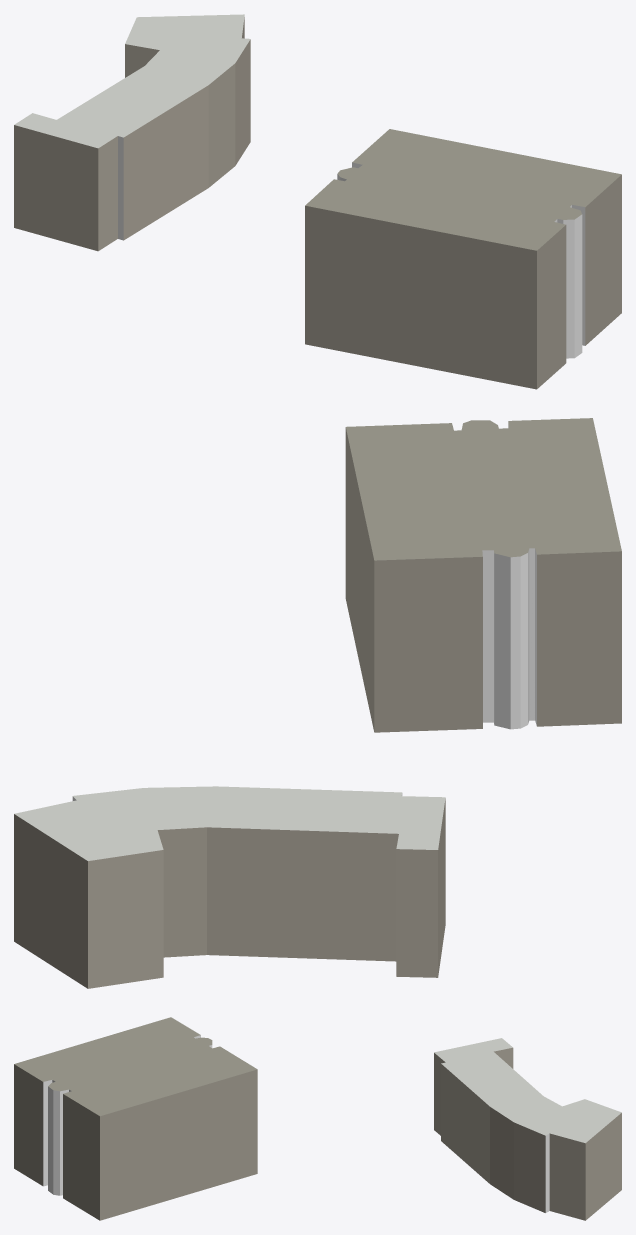
3 views of the same model, one above another, from view 1: azimuth 30°, elevation 25°; view 2: azimuth 150°, elevation 25°; view 3: azimuth 270°, elevation 25° (orthographic). The views are drawn at different scales.
Parts seen in each view (by area): view 1: tuile; view 2: tuile; view 3: tuile.
Part boxes in pixels (x1,y1,x2,y2): tuile: (14,14,621,389); tuile: (14,418,621,988); tuile: (14,1017,621,1220).
Size of the model in its own units: 49.7 by 23.04 by 102.
